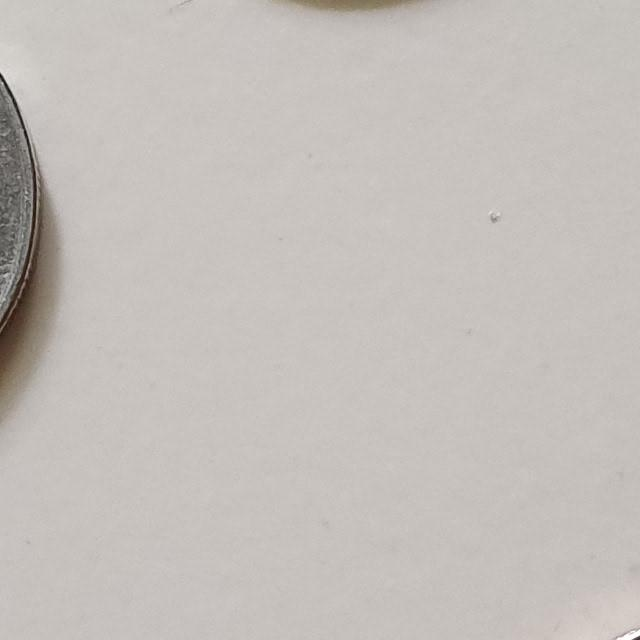10 Bath: (1, 63, 50, 361)
